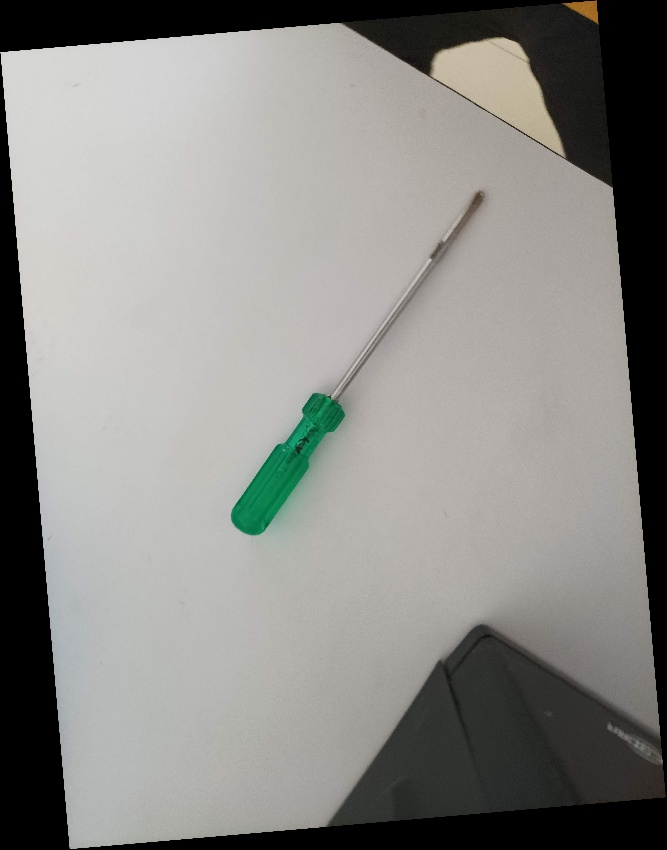screwdriver: (227, 183, 486, 538)
